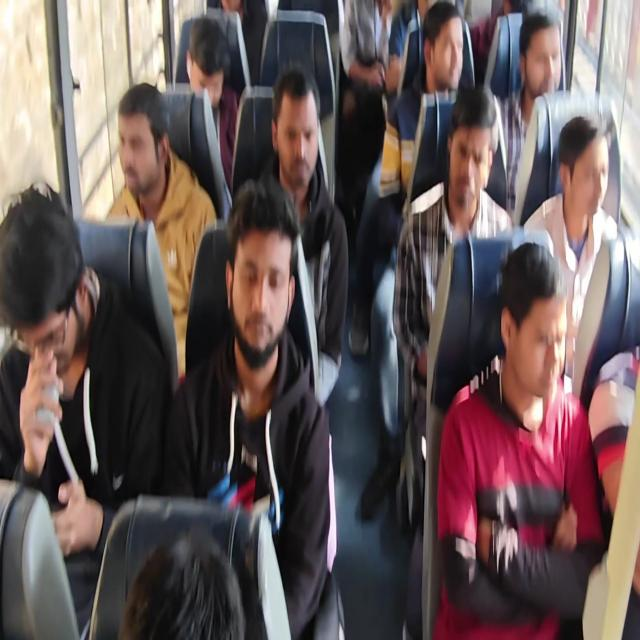person: (2, 188, 94, 383), (223, 178, 298, 375), (121, 533, 260, 637), (496, 241, 569, 396), (439, 82, 501, 208), (548, 117, 618, 225), (112, 84, 176, 198), (507, 4, 573, 100), (271, 59, 318, 191), (180, 13, 235, 117), (418, 3, 468, 94)
